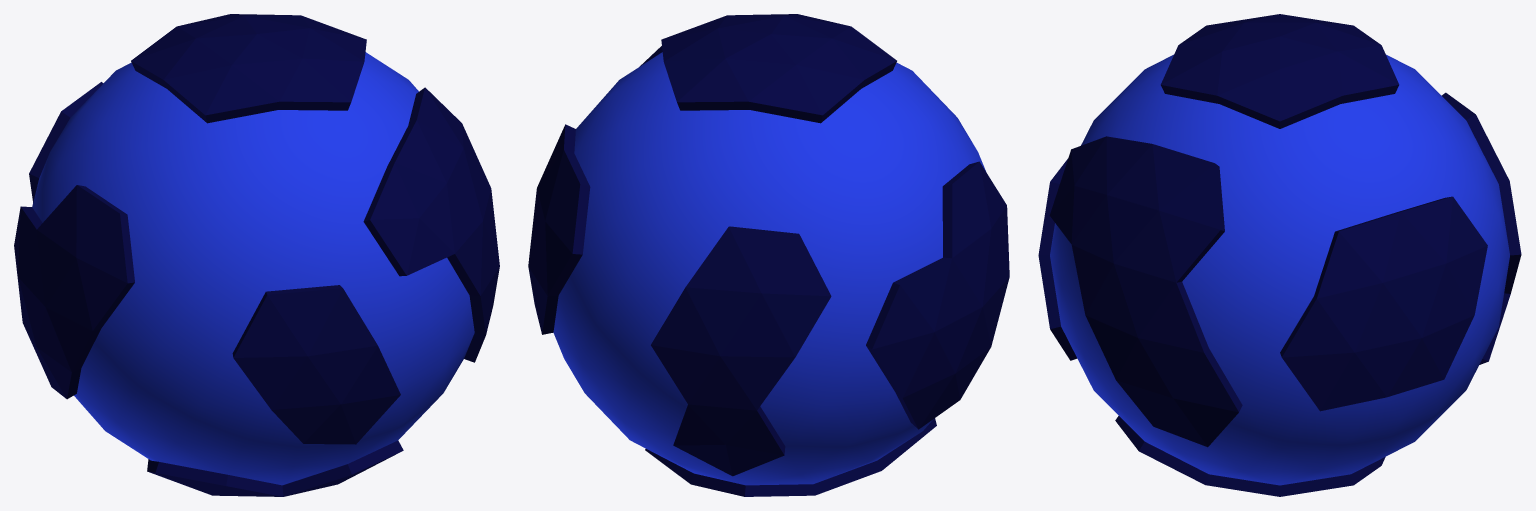
File: Weltkugel_V01.glb
3 views of the same model, side by side, from view 1: azimuth 30°, elevation 25°; view 2: azimuth 150°, elevation 25°; view 3: azimuth 270°, elevation 25° (orthographic).
Visible parts, largest first — view 1: Icon-Full, Ico-Islands; view 2: Icon-Full, Ico-Islands; view 3: Ico-Islands, Icon-Full.
Part boxes in pixels (x1,y1,x2,y2): Icon-Full: (32, 52, 474, 485); Ico-Islands: (14, 14, 499, 496); Icon-Full: (553, 52, 985, 485); Ico-Islands: (528, 14, 1009, 496); Ico-Islands: (1038, 14, 1521, 496); Icon-Full: (1050, 54, 1509, 485).
Bounding box in the file's own units: 2.1 × 2.1 × 2.1.
